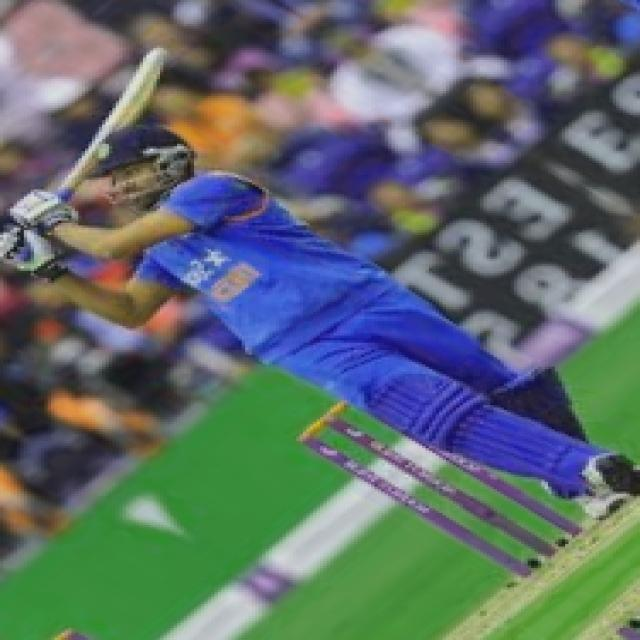toe: (146, 44, 173, 65)
